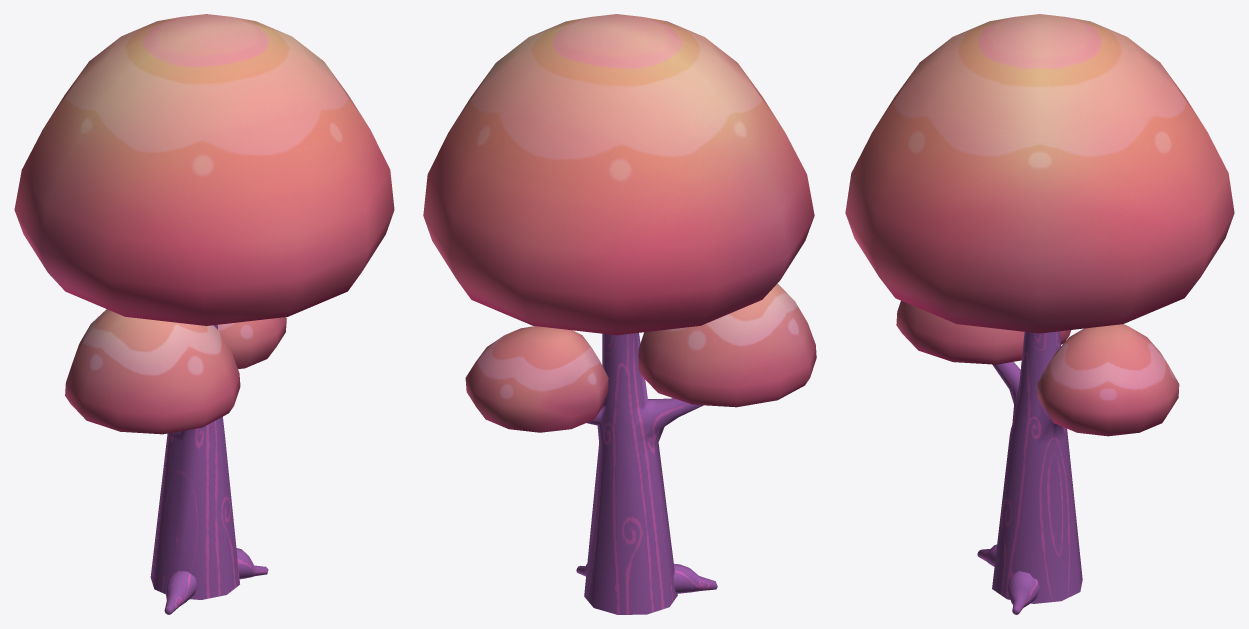
The picture shows the model from 3 angles, left to right: view 1: azimuth 30°, elevation 25°; view 2: azimuth 150°, elevation 25°; view 3: azimuth 270°, elevation 25°; orthographic projection. The views are drawn at different scales.
Visible parts, largest first — view 1: wk_s_15; view 2: wk_s_15; view 3: wk_s_15.
Boxes of the visible parts, x1=… form: wk_s_15: x1=14, y1=14, x2=394, y2=614; wk_s_15: x1=423, y1=14, x2=816, y2=614; wk_s_15: x1=845, y1=14, x2=1234, y2=614.
Bounding box in the file's own units: 4.05 × 4.05 × 6.46.
